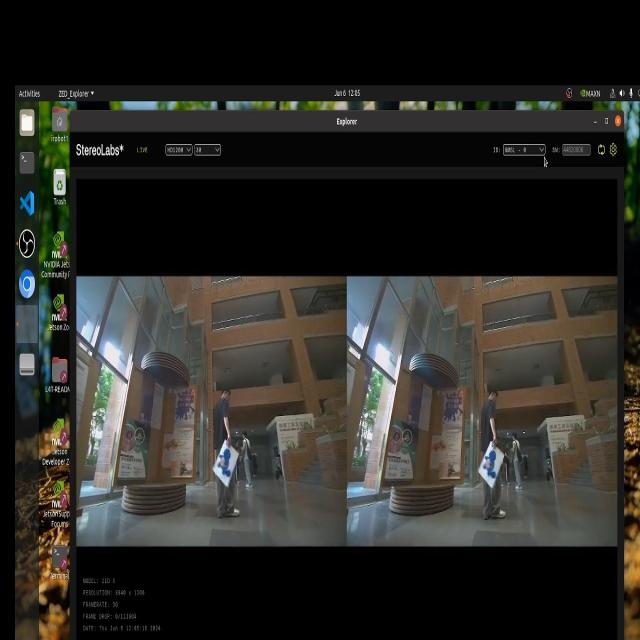blue: (220, 451, 242, 480), (480, 450, 500, 478)
